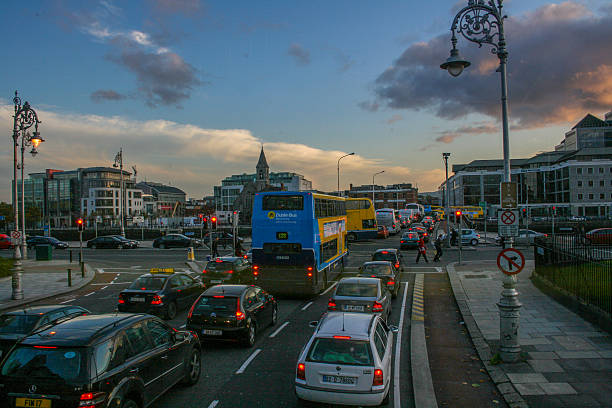bus: (252, 193, 346, 290), (344, 198, 377, 245), (377, 209, 398, 236)
car: (9, 314, 187, 408), (297, 310, 391, 407), (189, 285, 275, 343), (1, 306, 89, 355), (121, 273, 204, 315), (334, 277, 388, 321), (359, 259, 399, 298), (87, 235, 137, 252), (501, 228, 548, 246), (153, 233, 199, 251), (439, 227, 477, 248), (372, 246, 401, 272), (29, 234, 68, 250), (204, 231, 240, 246), (399, 230, 418, 249)
